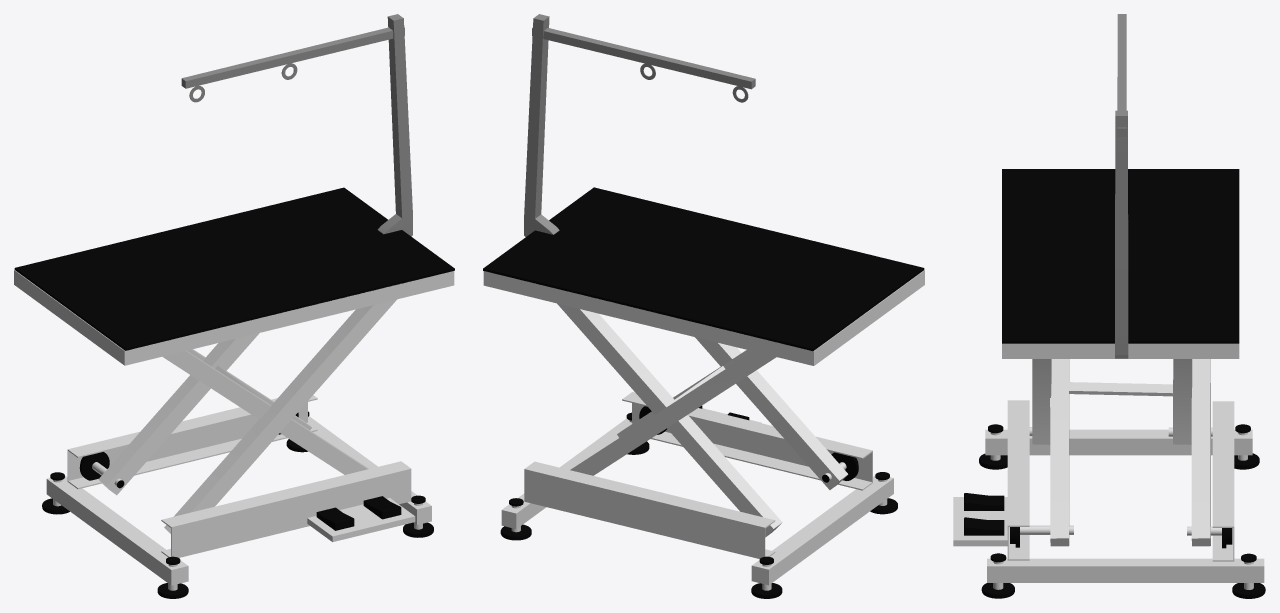
File: GroomingTableV3.fbx
The picture shows the model from 3 angles, left to right: view 1: azimuth 30°, elevation 25°; view 2: azimuth 150°, elevation 25°; view 3: azimuth 270°, elevation 25°; orthographic projection. The views are drawn at different scales.
Parts seen in each view (by area): view 1: Base, MetalPart; view 2: Base, MetalPart; view 3: Base, MetalPart.
Part boxes in pixels (<box>): Base: <box>14,187,454,598</box>; MetalPart: <box>181,14,412,236</box>; Base: <box>483,187,924,598</box>; MetalPart: <box>524,14,755,236</box>; Base: <box>953,169,1265,598</box>; MetalPart: <box>1115,14,1128,358</box>.
Size of the model in its own units: 710 by 922 by 525.
